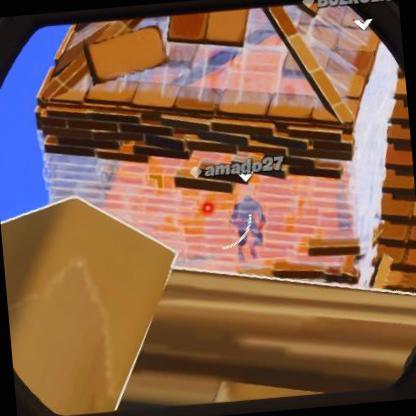person: (232, 187, 272, 262)
